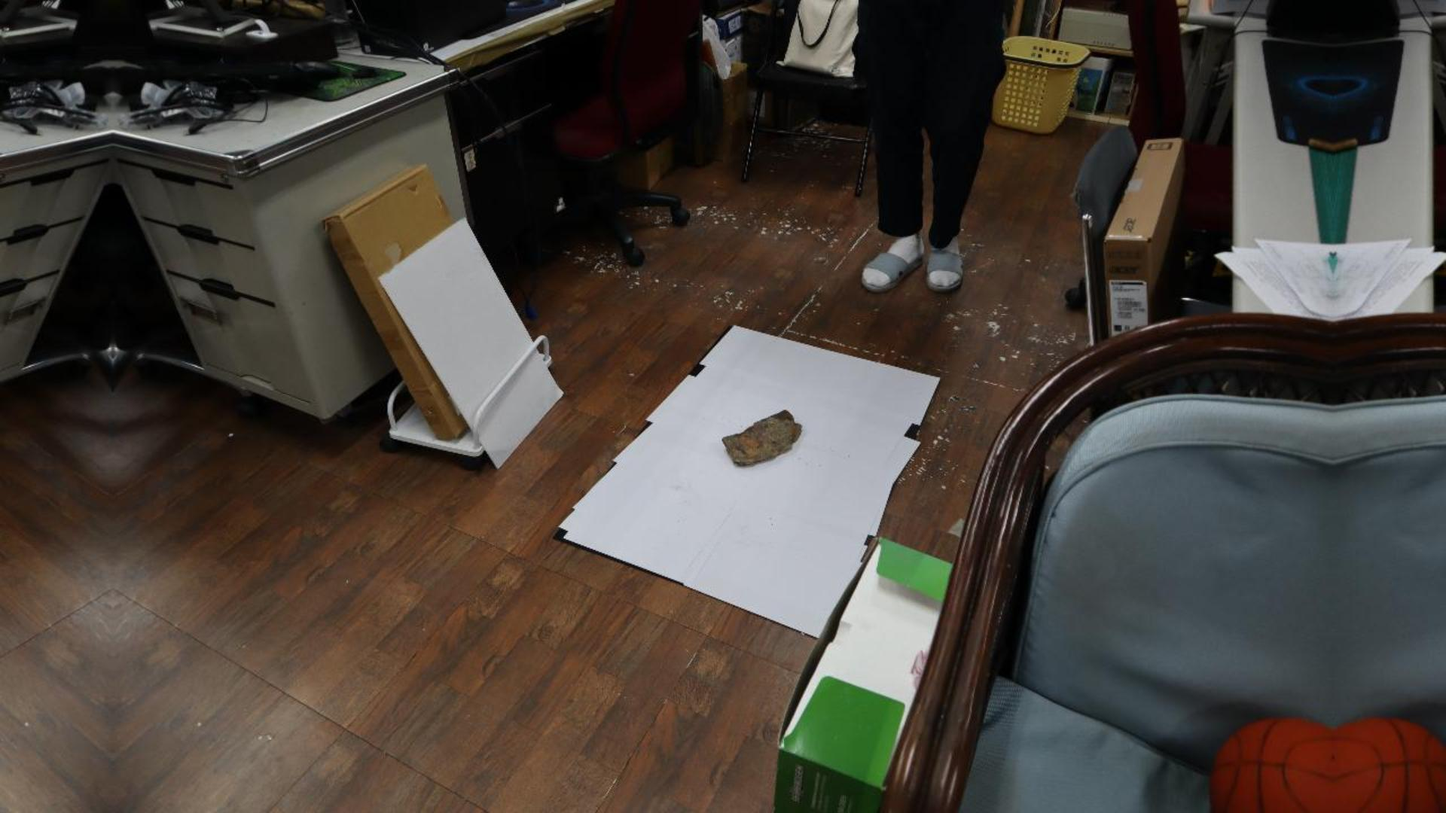rock: (722, 410, 801, 465)
